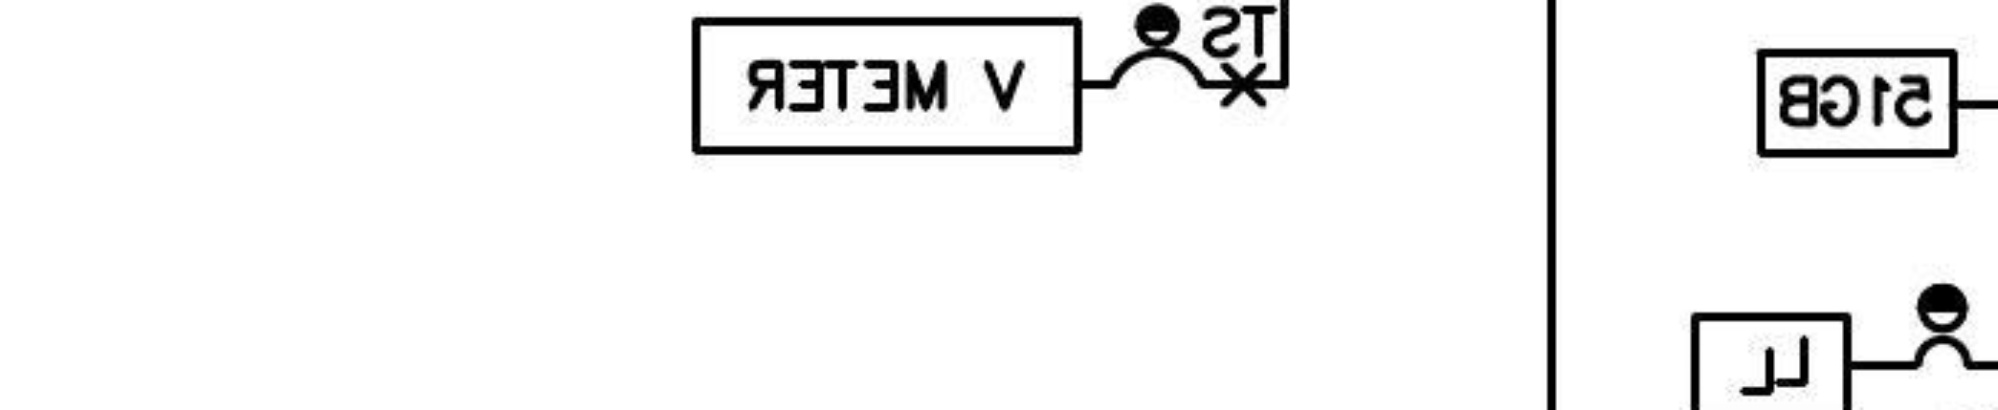v_m_digital: (689, 14, 1086, 158)
